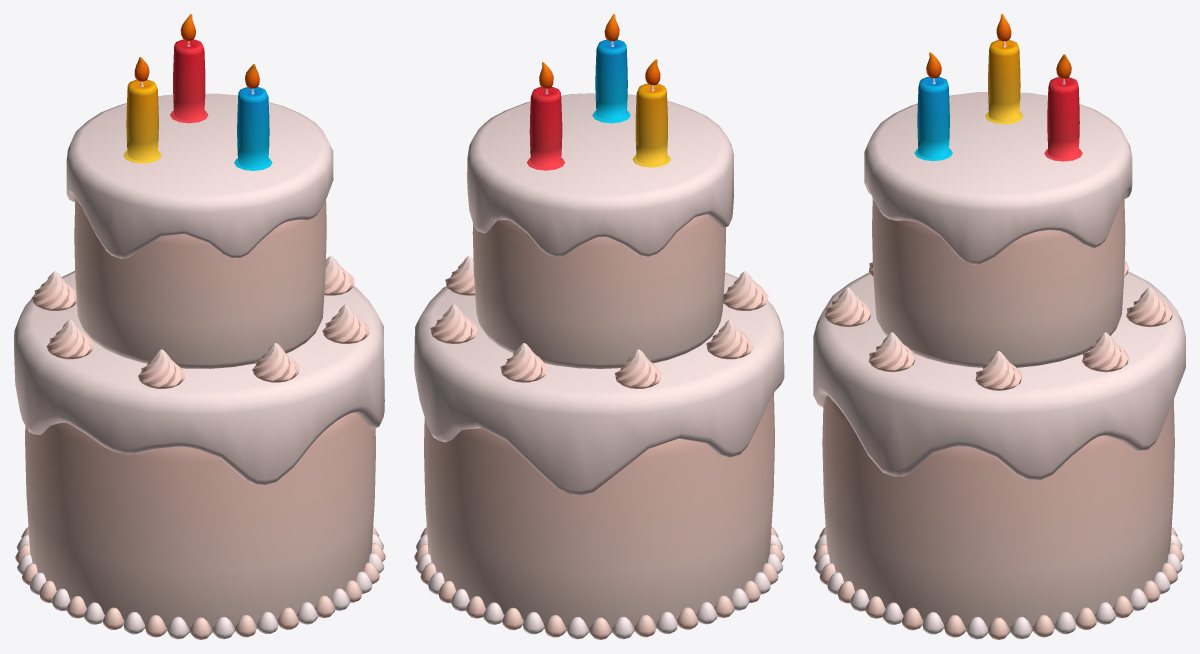
The model's file is Cake_Lemon_V1_00.fbx.
3 views of the same model, side by side, from view 1: azimuth 30°, elevation 25°; view 2: azimuth 150°, elevation 25°; view 3: azimuth 270°, elevation 25° (orthographic).
Visible parts, largest first — view 1: Cake_Lemon_V1_00; view 2: Cake_Lemon_V1_00; view 3: Cake_Lemon_V1_00.
Boxes of the visible parts, <box> form: Cake_Lemon_V1_00: <box>14,14,385,639</box>; Cake_Lemon_V1_00: <box>414,14,784,639</box>; Cake_Lemon_V1_00: <box>813,14,1185,639</box>.
Size of the model in its own units: 65.77 by 102 by 65.84.
